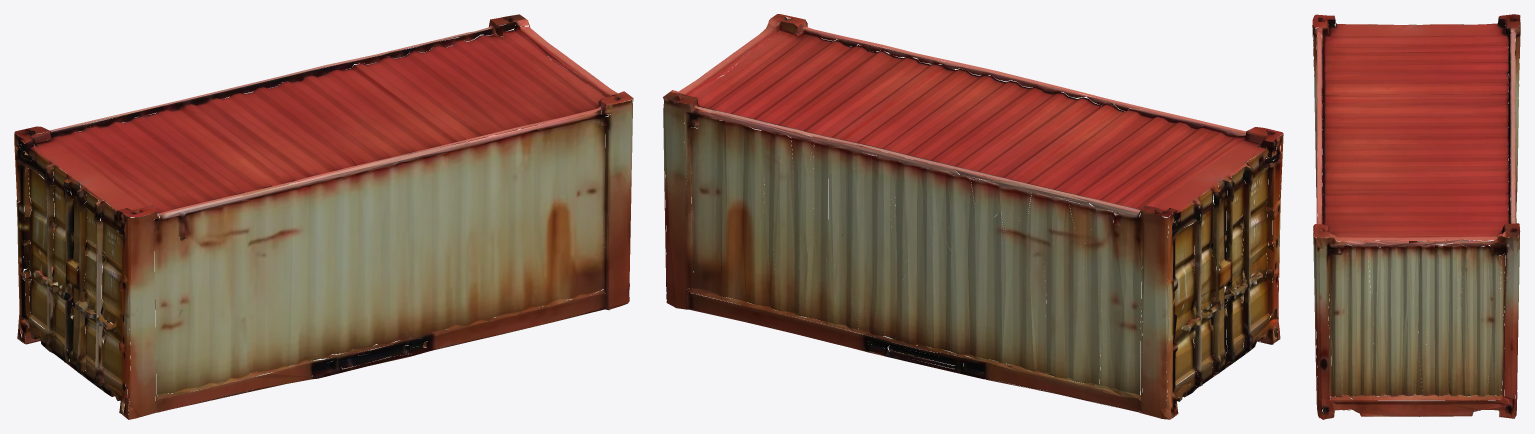
The model's file is shipping-container-rusted.glb.
The picture shows the model from 3 angles, left to right: view 1: azimuth 30°, elevation 25°; view 2: azimuth 150°, elevation 25°; view 3: azimuth 270°, elevation 25°; orthographic projection. The views are drawn at different scales.
Parts seen in each view (by area): view 1: tmp_67ze66u.ply; view 2: tmp_67ze66u.ply; view 3: tmp_67ze66u.ply.
Boxes of the visible parts, x1,y1,x2,y2 form: tmp_67ze66u.ply: (14, 14, 633, 419); tmp_67ze66u.ply: (663, 14, 1283, 419); tmp_67ze66u.ply: (1312, 14, 1520, 419).
Size of the model in its own units: 8 by 3.2 by 3.2.
1 material, 1 textured.
